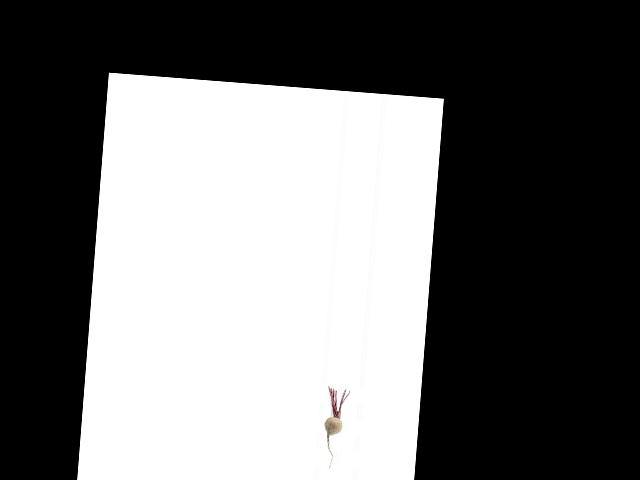beet: (321, 386, 349, 470)
